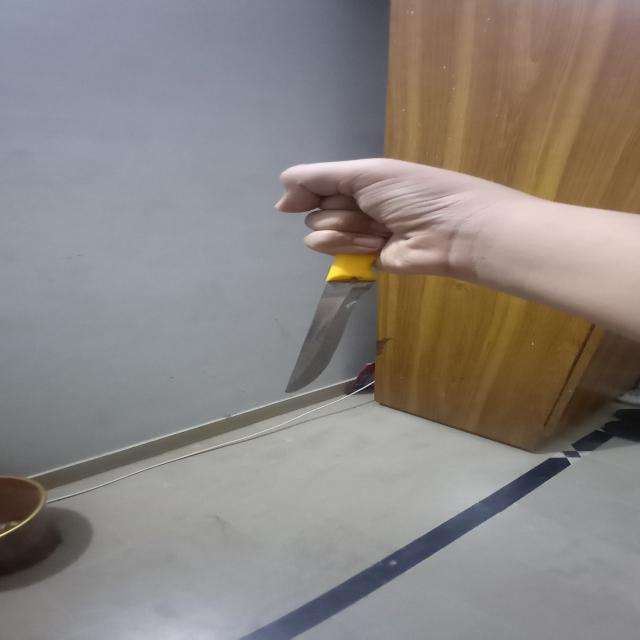Knife: (250, 209, 402, 399)
